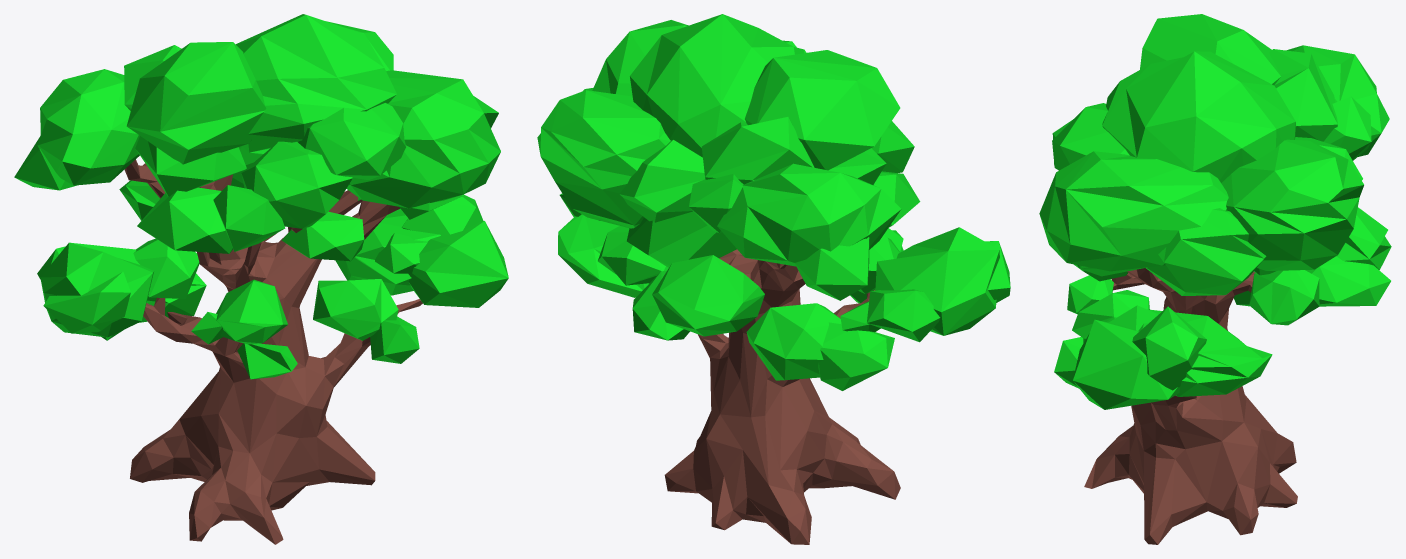
File: tree_3.glb
3 views of the same model, side by side, from view 1: azimuth 30°, elevation 25°; view 2: azimuth 150°, elevation 25°; view 3: azimuth 270°, elevation 25° (orthographic).
Parts seen in each view (by area): view 1: green, brown; view 2: green, brown; view 3: green, brown.
Part boxes in pixels (x1,y1,x2,y2): green: (14, 14, 508, 379); brown: (124, 159, 422, 544); green: (537, 14, 1010, 390); brown: (664, 249, 900, 544); green: (1039, 14, 1391, 409); brown: (1084, 268, 1297, 544).
Bounding box in the file's own units: 30.35 × 30.88 × 20.64.
